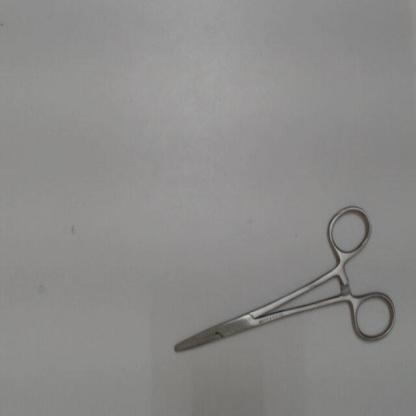Mayo Needle Holder: (166, 197, 404, 364)
